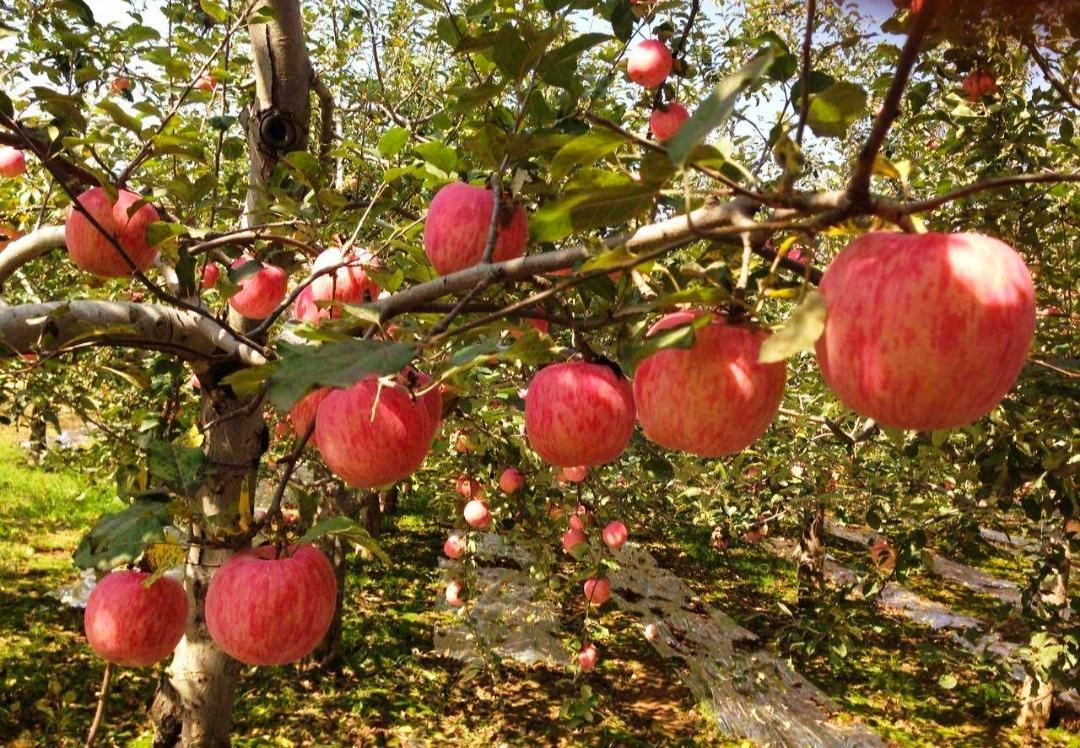apple: (834, 230, 1063, 432), (630, 317, 786, 459), (204, 540, 339, 668), (308, 373, 445, 494), (521, 359, 633, 474), (423, 177, 538, 280), (83, 569, 185, 670), (64, 186, 170, 281), (621, 36, 670, 87), (647, 99, 688, 141), (954, 67, 1001, 102)
